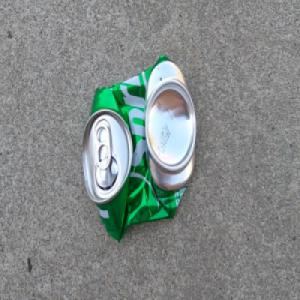SodaCan: (81, 53, 197, 243)
